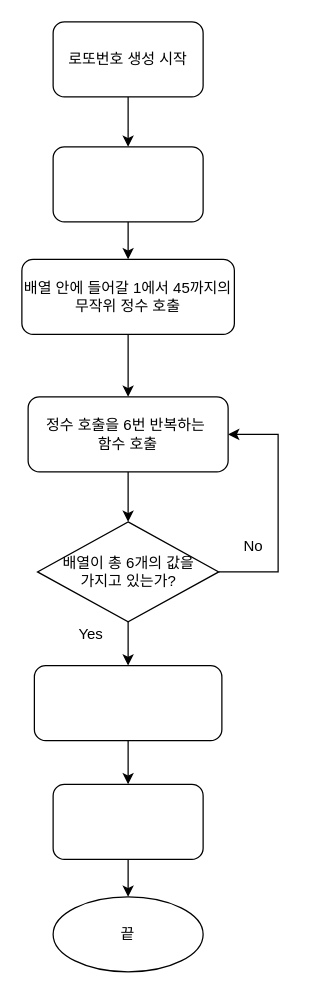
The diagram is 310 pixels wide and 994 high, and some of its shapes have lost their labels. Here are the shapes that lost their labels. From the top down, the box of each, then its label:
(52, 146, 203, 222): 무작위 정수 6개를 담을 배열생성
(33, 664, 222, 741): 6개의 정수를 배열에 삽입
(52, 783, 203, 859): 배열의 값을 출력
